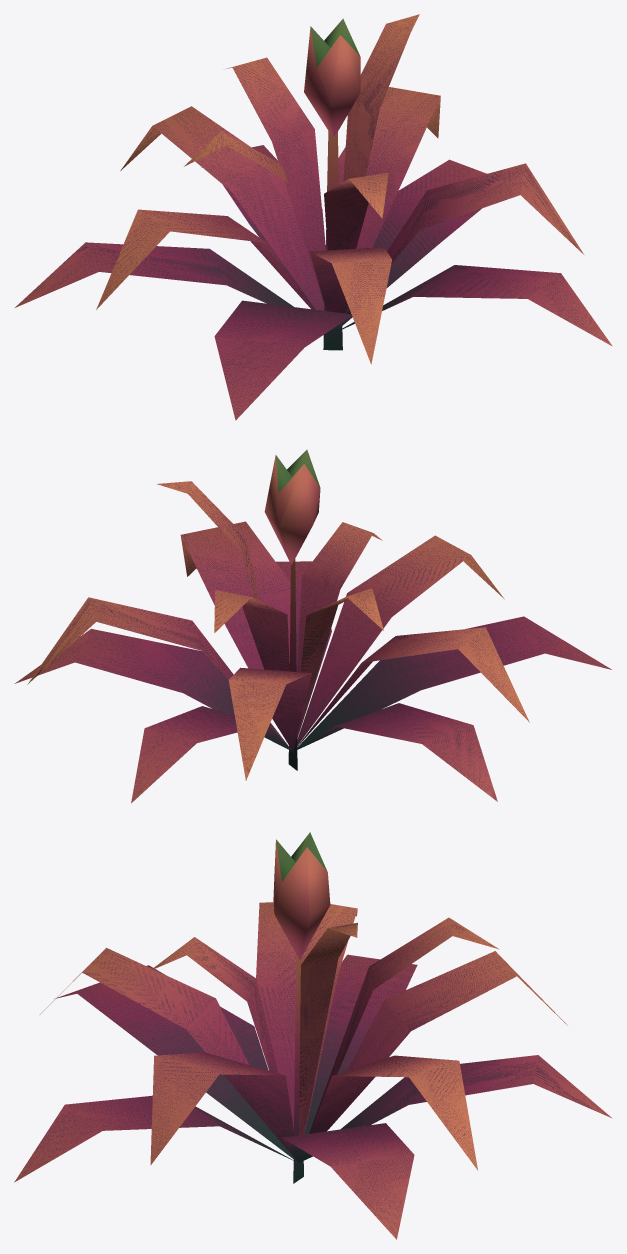
File: Bush_2D.fbx
The picture shows the model from 3 angles, top to bottom: view 1: azimuth 30°, elevation 25°; view 2: azimuth 150°, elevation 25°; view 3: azimuth 270°, elevation 25°; orthographic projection. The views are drawn at different scales.
Parts seen in each view (by area): view 1: Bush_2D; view 2: Bush_2D; view 3: Bush_2D.
Boxes of the visible parts, x1,y1,x2,y2 form: Bush_2D: [15, 14, 612, 420]; Bush_2D: [14, 449, 611, 803]; Bush_2D: [14, 832, 612, 1239].
Bounding box in the file's own units: 1.35 × 0.8242 × 1.31.
